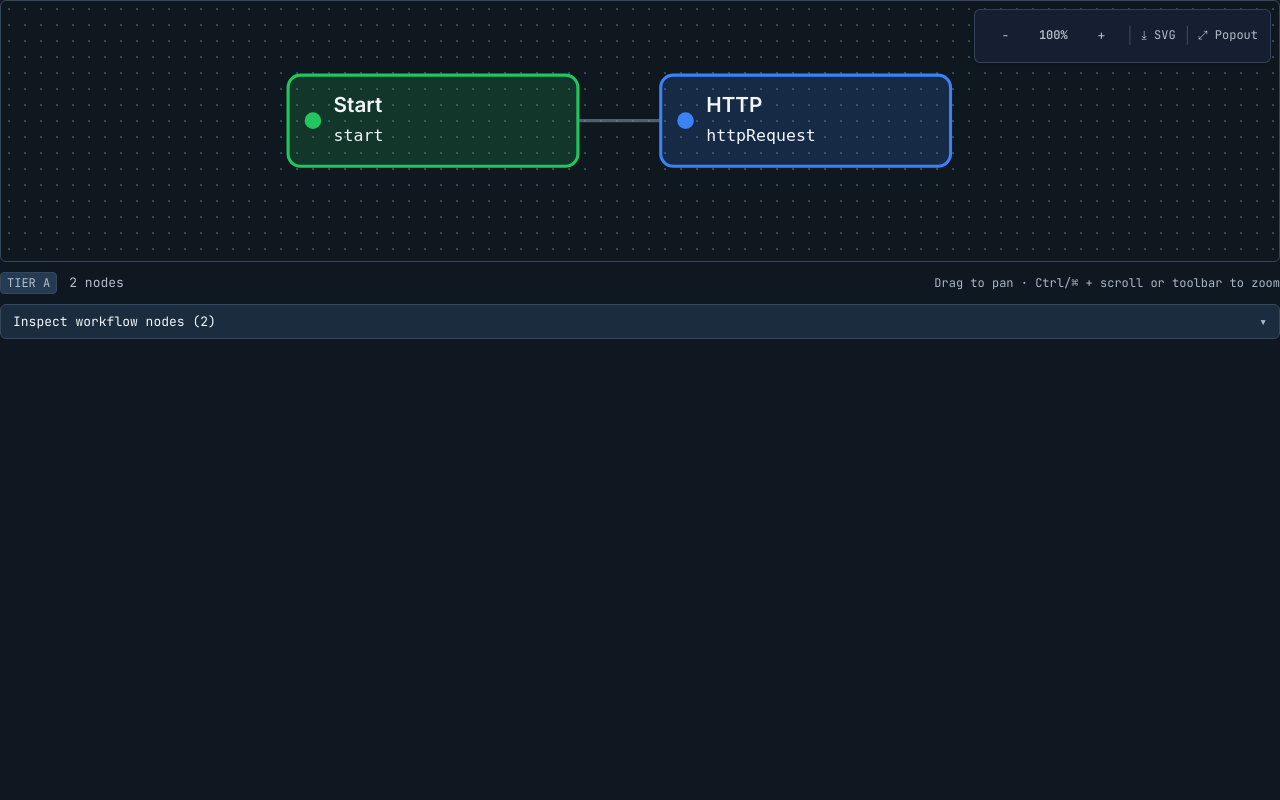
Test case: CompactVectorDiagram dialog lifecycle › survives StrictMode setup/cleanup/setup
Click the button titled "Expand diagram".
click(1228, 36)  # box [1194,14,1262,58]
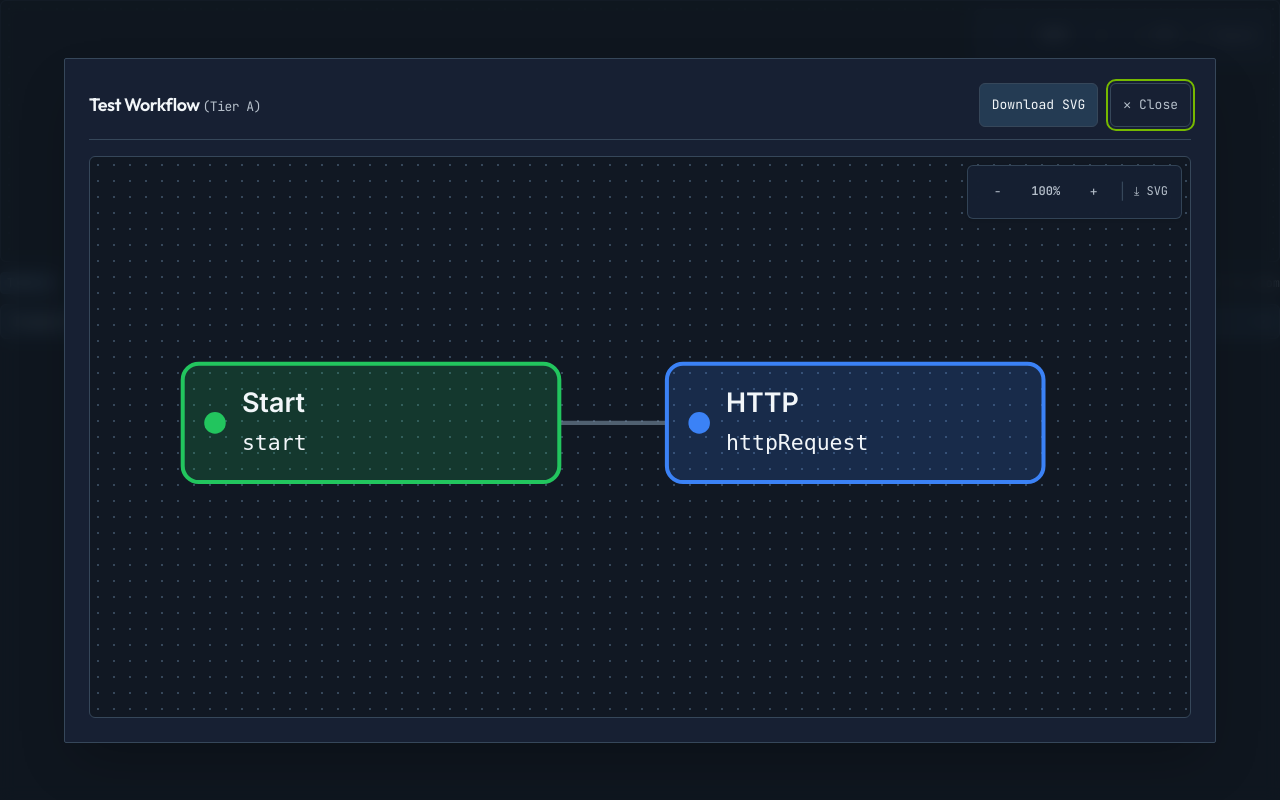
Expected: the dialog is shown
Click the button "✕ Close".
click(1151, 104)  # box [1110,82,1191,126]
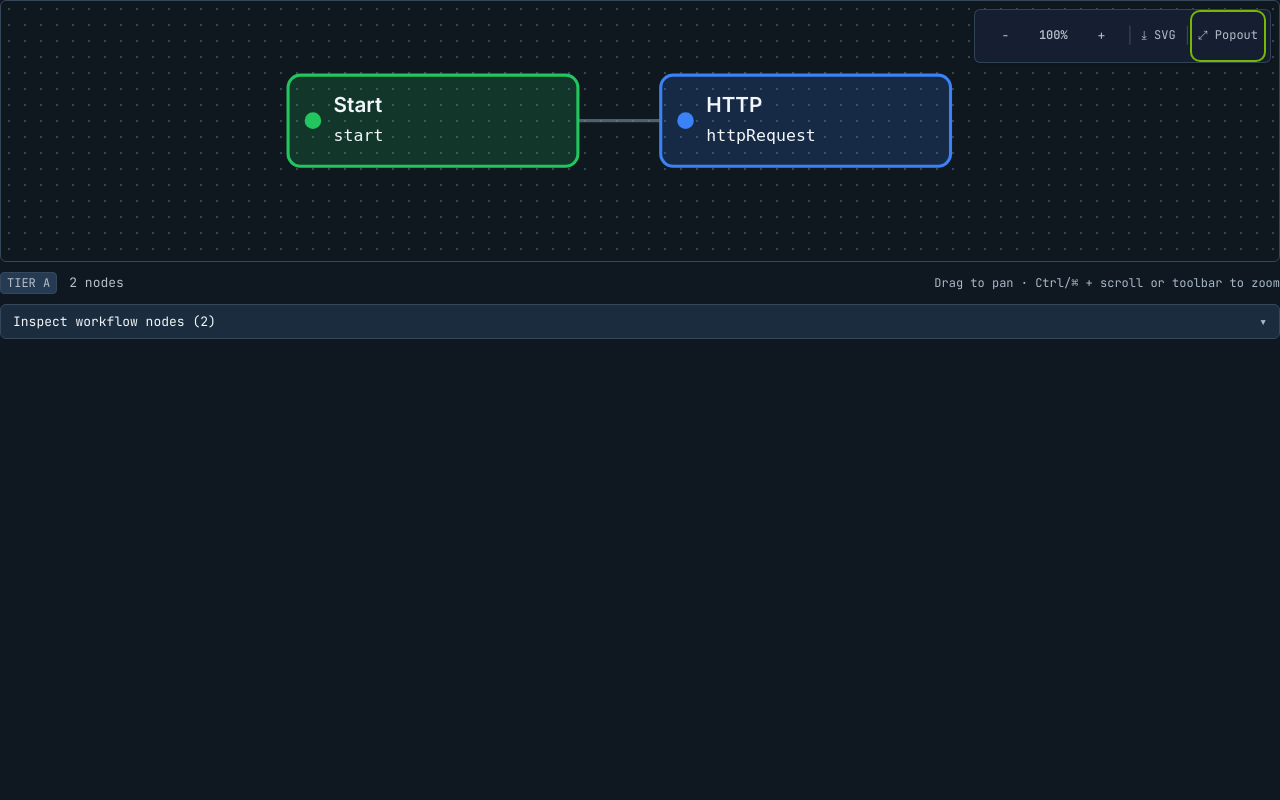
Expected: the dialog is gone
